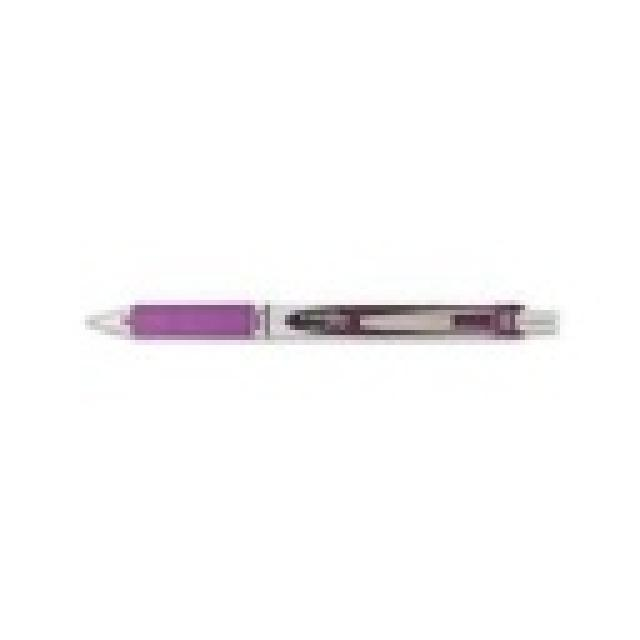pen: (72, 290, 568, 355)
